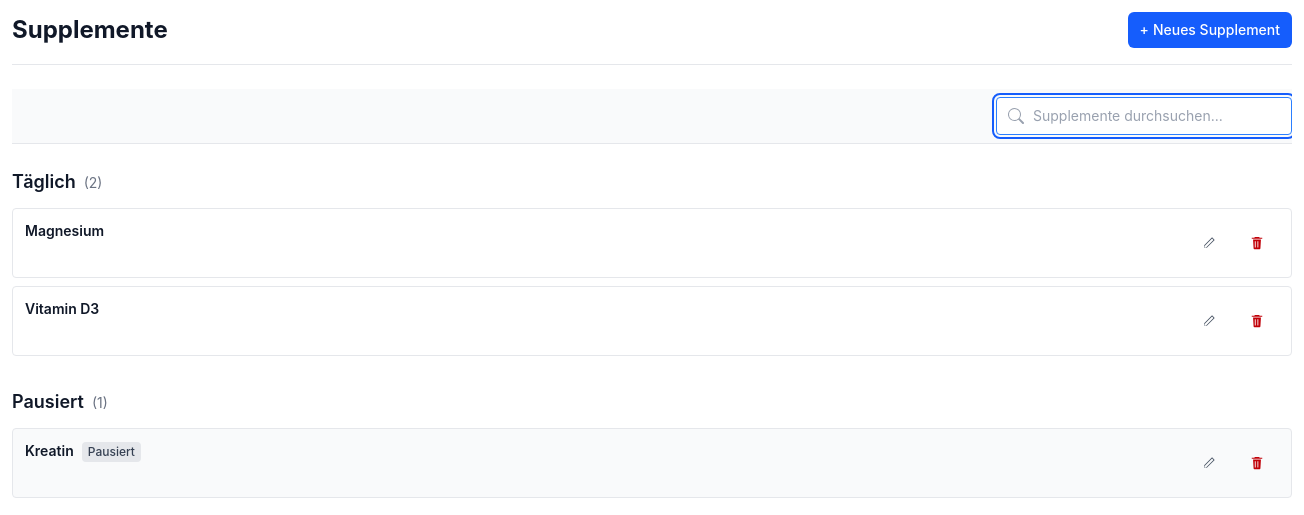
Test: SupplementsView › search filter (P-22c) › shows the no-matches state when query has zero hits
In the search field: (1144, 116) x1=996 y1=97 x2=1292 y2=135, type "xyz"
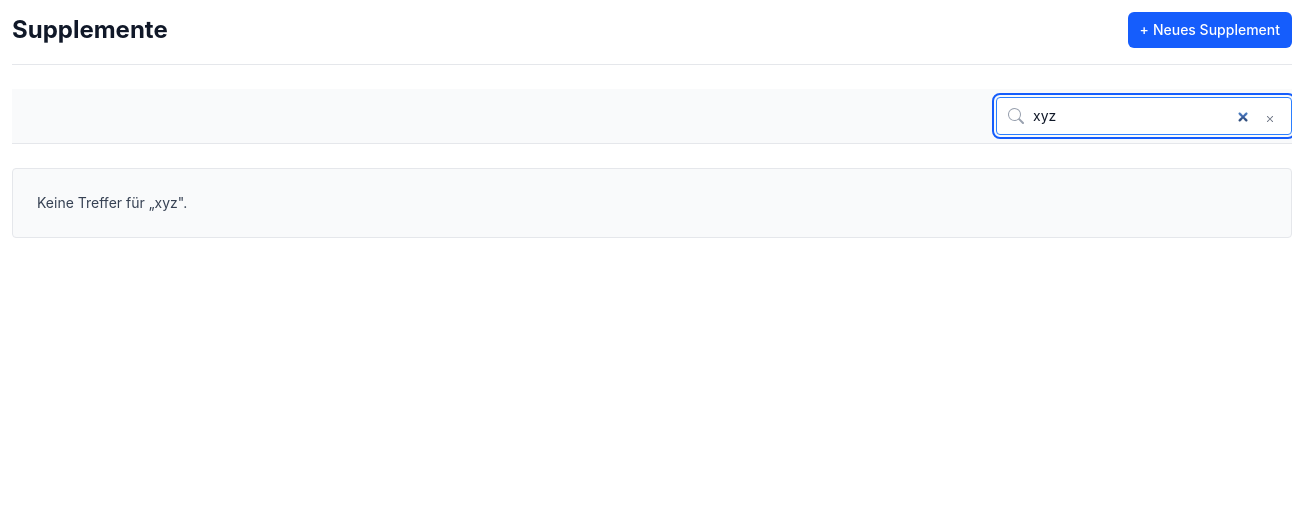
Expected: the message with test id "supplements-no-matches" shows "xyz", x1=37 y1=194 x2=187 y2=211
